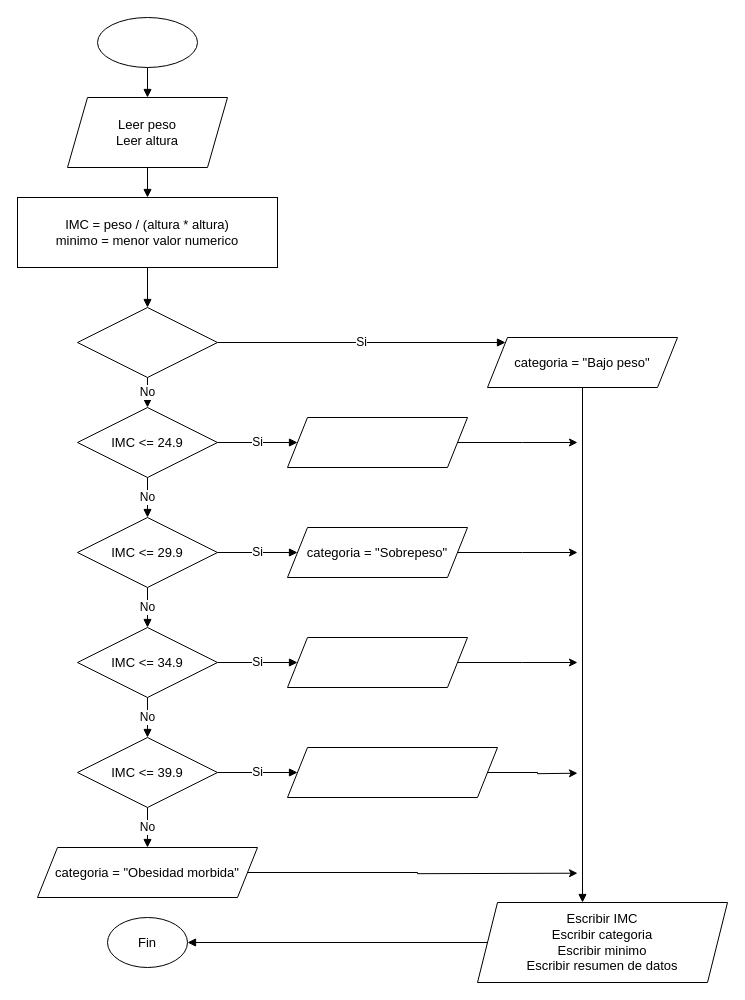
The diagram is 745 pixels wide and 1000 high, and some of its shapes have lost their labels. The shapes that lost their labels are listed below. From the top down, each one's centre as x and y in pixels, then its label:
[147,42]: Inicio
[147,342]: IMC < 18.5
[377,442]: categoria = "Normal"
[377,662]: categoria = "Obesidad"
[392,772]: categoria = "Obesidad severa"
